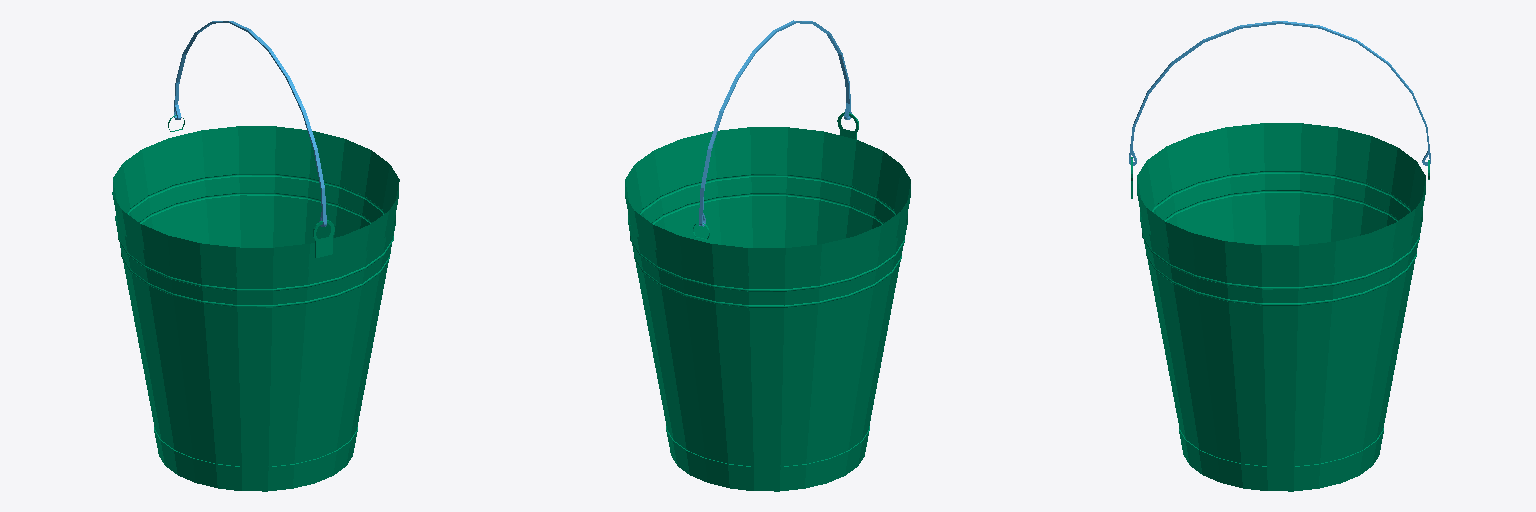
URDF robot description (partnet_59d99d0a2b385fe81b1a00a31bfed97b):
<?xml version="1.0" ?>
<robot name="partnet_59d99d0a2b385fe81b1a00a31bfed97b">
	<link name="base"/>
	<link name="link_0">
		<visual name="handle-1">
			<origin xyz="0 -0.48305199267419374 -0.02847403130494055"/>
			<geometry>
				<mesh filename="textured_objs/original-7.obj"  scale="0.1 0.1 0.1"/>
			</geometry>
		</visual>
		<collision>
			<origin xyz="0 -0.48305199267419374 -0.02847403130494055"/>
			<geometry>
				<mesh filename="textured_objs/original-7.obj"  scale="0.1 0.1 0.1"/>
			</geometry>
		</collision>
	</link>
	<joint name="joint_0" type="revolute">
		<origin xyz="0 0.48305199267419374 0.02847403130494055"/>
		<axis xyz="-1 0 0"/>
		<child link="link_0"/>
		<parent link="link_1"/>
		<limit lower="-2.249380339970292" upper="1.985486557068749"/>
	</joint>
	<link name="link_1">
		<visual name="base_body-2">
			<origin xyz="0 0 0"/>
			<geometry>
				<mesh filename="textured_objs/original-4.obj"  scale="0.1 0.1 0.1"/>
			</geometry>
		</visual>
		<visual name="base_body-2">
			<origin xyz="0 0 0"/>
			<geometry>
				<mesh filename="textured_objs/original-3.obj"  scale="0.1 0.1 0.1"/>
			</geometry>
		</visual>
		<visual name="base_body-2">
			<origin xyz="0 0 0"/>
			<geometry>
				<mesh filename="textured_objs/original-2.obj"  scale="0.1 0.1 0.1"/>
			</geometry>
		</visual>
		<visual name="base_body-2">
			<origin xyz="0 0 0"/>
			<geometry>
				<mesh filename="textured_objs/original-8.obj"  scale="0.1 0.1 0.1"/>
			</geometry>
		</visual>
		<visual name="base_body-2">
			<origin xyz="0 0 0"/>
			<geometry>
				<mesh filename="textured_objs/original-13.obj"  scale="0.1 0.1 0.1"/>
			</geometry>
		</visual>
		<visual name="base_body-2">
			<origin xyz="0 0 0"/>
			<geometry>
				<mesh filename="textured_objs/original-5.obj"  scale="0.1 0.1 0.1"/>
			</geometry>
		</visual>
		<visual name="base_body-2">
			<origin xyz="0 0 0"/>
			<geometry>
				<mesh filename="textured_objs/original-6.obj"  scale="0.1 0.1 0.1"/>
			</geometry>
		</visual>
		<visual name="base_body-2">
			<origin xyz="0 0 0"/>
			<geometry>
				<mesh filename="textured_objs/original-11.obj"  scale="0.1 0.1 0.1"/>
			</geometry>
		</visual>
		<visual name="base_body-2">
			<origin xyz="0 0 0"/>
			<geometry>
				<mesh filename="textured_objs/original-1.obj"  scale="0.1 0.1 0.1"/>
			</geometry>
		</visual>
		<visual name="base_body-2">
			<origin xyz="0 0 0"/>
			<geometry>
				<mesh filename="textured_objs/original-10.obj"  scale="0.1 0.1 0.1"/>
			</geometry>
		</visual>
		<visual name="base_body-2">
			<origin xyz="0 0 0"/>
			<geometry>
				<mesh filename="textured_objs/original-14.obj"  scale="0.1 0.1 0.1"/>
			</geometry>
		</visual>
		<collision>
			<origin xyz="0 0 0"/>
			<geometry>
				<mesh filename="textured_objs/original-4.obj"  scale="0.1 0.1 0.1"/>
			</geometry>
		</collision>
		<collision>
			<origin xyz="0 0 0"/>
			<geometry>
				<mesh filename="textured_objs/original-3.obj"  scale="0.1 0.1 0.1"/>
			</geometry>
		</collision>
		<collision>
			<origin xyz="0 0 0"/>
			<geometry>
				<mesh filename="textured_objs/original-2.obj"  scale="0.1 0.1 0.1"/>
			</geometry>
		</collision>
		<collision>
			<origin xyz="0 0 0"/>
			<geometry>
				<mesh filename="textured_objs/original-8.obj"  scale="0.1 0.1 0.1"/>
			</geometry>
		</collision>
		<collision>
			<origin xyz="0 0 0"/>
			<geometry>
				<mesh filename="textured_objs/original-13.obj"  scale="0.1 0.1 0.1"/>
			</geometry>
		</collision>
		<collision>
			<origin xyz="0 0 0"/>
			<geometry>
				<mesh filename="textured_objs/original-5.obj"  scale="0.1 0.1 0.1"/>
			</geometry>
		</collision>
		<collision>
			<origin xyz="0 0 0"/>
			<geometry>
				<mesh filename="textured_objs/original-6.obj"  scale="0.1 0.1 0.1"/>
			</geometry>
		</collision>
		<collision>
			<origin xyz="0 0 0"/>
			<geometry>
				<mesh filename="textured_objs/original-11.obj"  scale="0.1 0.1 0.1"/>
			</geometry>
		</collision>
		<collision>
			<origin xyz="0 0 0"/>
			<geometry>
				<mesh filename="textured_objs/original-1.obj"  scale="0.1 0.1 0.1"/>
			</geometry>
		</collision>
		<collision>
			<origin xyz="0 0 0"/>
			<geometry>
				<mesh filename="textured_objs/original-10.obj"  scale="0.1 0.1 0.1"/>
			</geometry>
		</collision>
		<collision>
			<origin xyz="0 0 0"/>
			<geometry>
				<mesh filename="textured_objs/original-14.obj"  scale="0.1 0.1 0.1"/>
			</geometry>
		</collision>
	</link>
	<joint name="joint_1" type="fixed">
		<origin rpy="1.570796326794897 0 -1.570796326794897" xyz="0 0 0"/>
		<child link="link_1"/>
		<parent link="base"/>
	</joint>
</robot>

--- What the picture shows (computed from the rendered views, not written in the file) ---
3 views of the same robot in one strip: view 1: azimuth 30°, elevation 25°; view 2: azimuth 150°, elevation 25°; view 3: azimuth 270°, elevation 25° (orthographic).
Model partnet_59d99d0a2b385fe81b1a00a31bfed97b with 3 links and 2 joints (1 revolute, 1 fixed), rooted at base, posed all joints at 0.
Visible links, largest first — view 1: link_1, link_0; view 2: link_1, link_0; view 3: link_1, link_0.
Link boxes in pixels (x1,y1,x2,y2): link_1: [112, 115, 399, 491]; link_0: [174, 21, 326, 226]; link_1: [625, 112, 910, 491]; link_0: [699, 20, 851, 226]; link_1: [1131, 123, 1429, 491]; link_0: [1129, 21, 1430, 165].
Bounding box of the posed robot: 0.0926 × 0.0967 × 0.1501 m (x, y, z).
6 mesh visuals loaded from 12 distinct referenced files (6 OBJ); not drawn: 6 (reference not matched to a file when rendering).